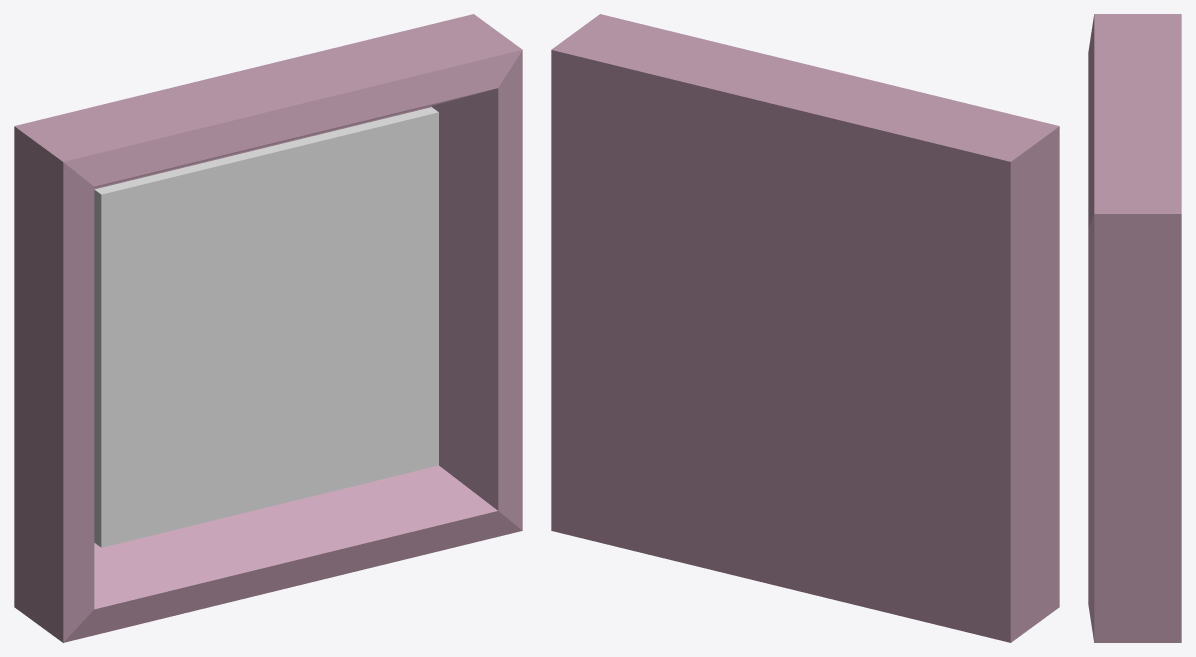
Rendered from FrameMed.fbx.
The picture shows the model from 3 angles, left to right: view 1: azimuth 30°, elevation 25°; view 2: azimuth 150°, elevation 25°; view 3: azimuth 270°, elevation 25°; orthographic projection. The views are drawn at different scales.
Parts seen in each view (by area): view 1: Cube.002, Plane.002; view 2: Cube.002; view 3: Cube.002.
Part boxes in pixels (bbox=[...]): Cube.002: bbox=[14, 14, 522, 642]; Plane.002: bbox=[94, 107, 438, 547]; Cube.002: bbox=[551, 14, 1059, 642]; Cube.002: bbox=[1088, 14, 1181, 642].
Size of the model in its own units: 229 by 229 by 45.02.
